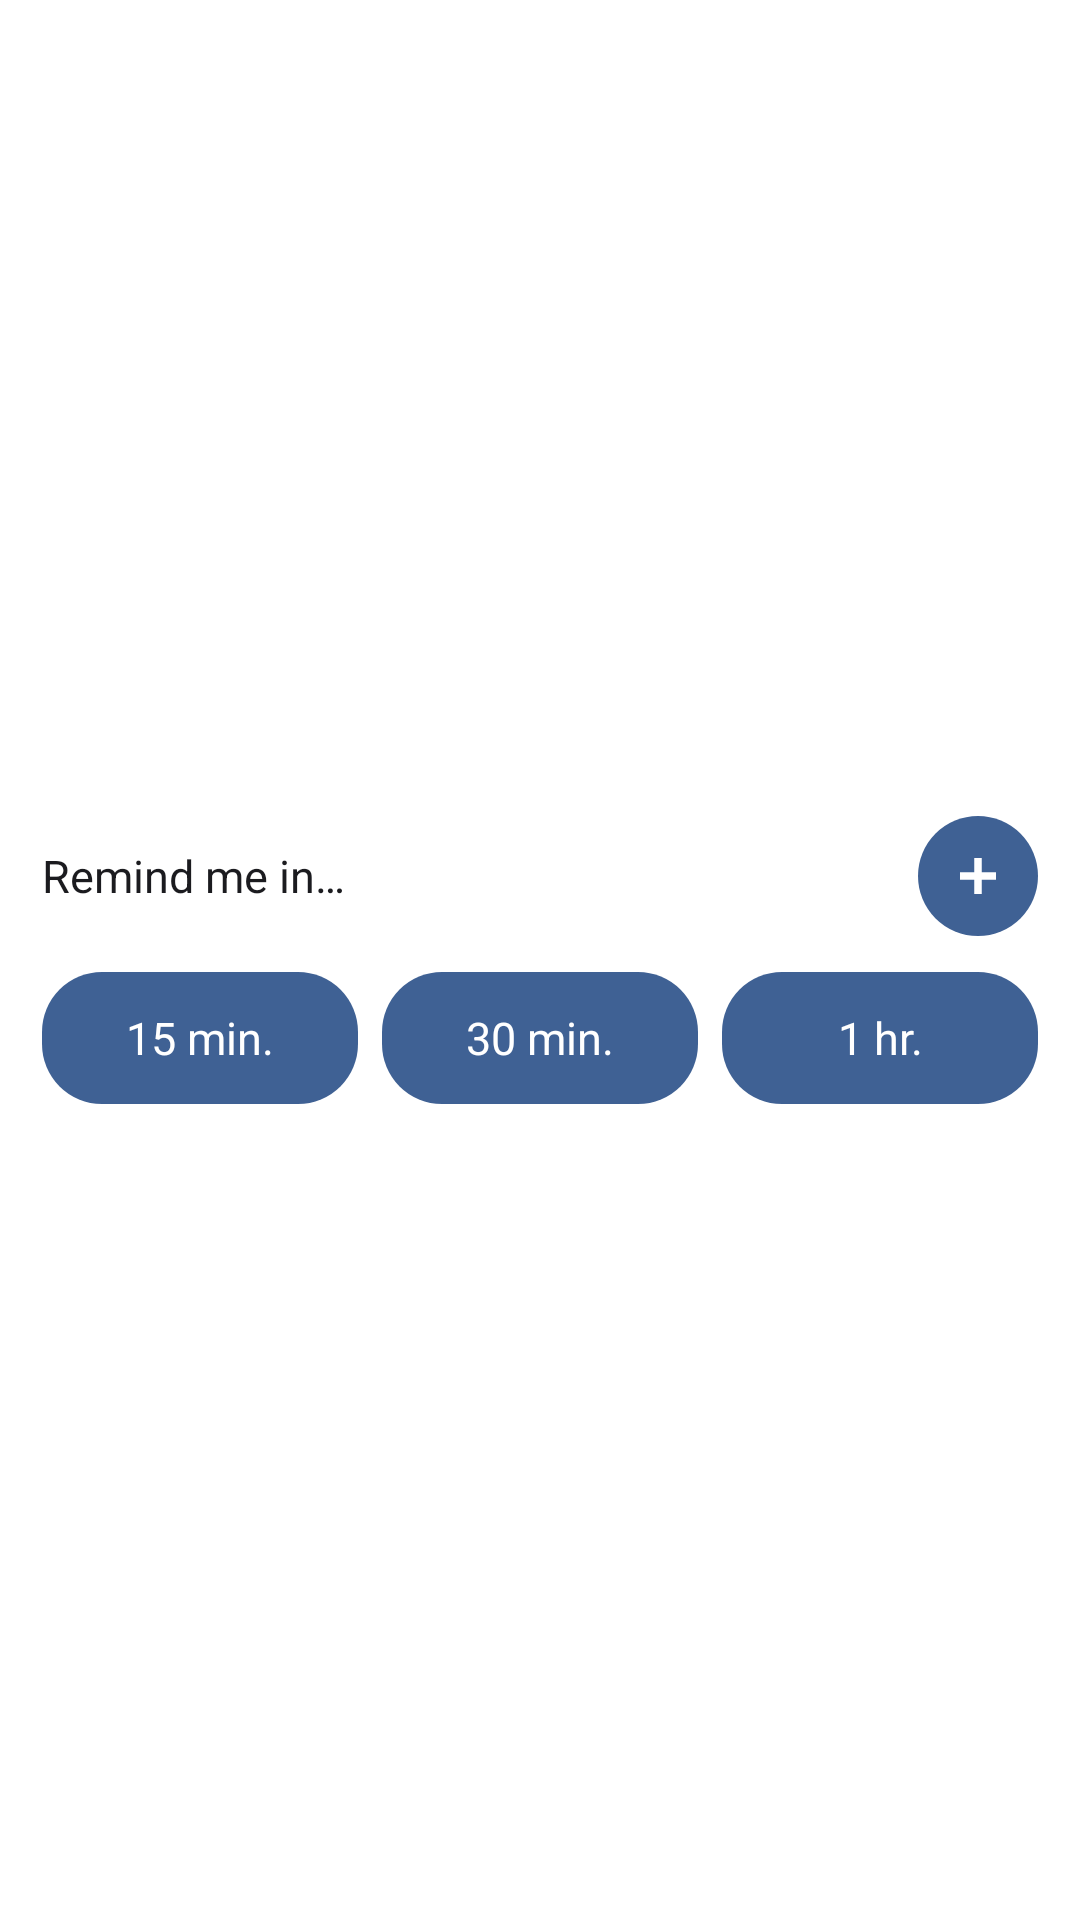

Where to tap for icons on this 1080px×1920px app screen, as (x,y):
Create new reminder: (978,876)
